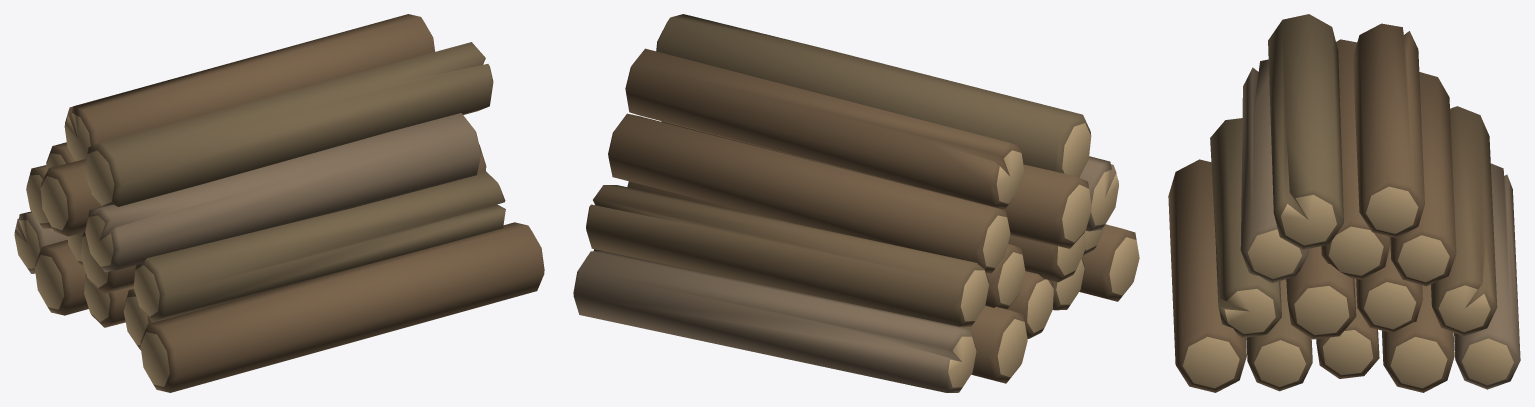
Rendered from rpgpp_lt_log_wood_01 -col.glb.
The picture shows the model from 3 angles, left to right: view 1: azimuth 30°, elevation 25°; view 2: azimuth 150°, elevation 25°; view 3: azimuth 270°, elevation 25°; orthographic projection. The views are drawn at different scales.
Parts seen in each view (by area): view 1: rpgpp_lt_log_wood_01 -col; view 2: rpgpp_lt_log_wood_01 -col; view 3: rpgpp_lt_log_wood_01 -col.
Boxes of the visible parts, left/top/right/bottom form: rpgpp_lt_log_wood_01 -col: left=14, top=14, right=544, bottom=392; rpgpp_lt_log_wood_01 -col: left=573, top=14, right=1139, bottom=392; rpgpp_lt_log_wood_01 -col: left=1168, top=14, right=1520, bottom=392.
Bounding box in the file's own units: 2.29 × 1.18 × 1.75.
1 material, 1 textured.
